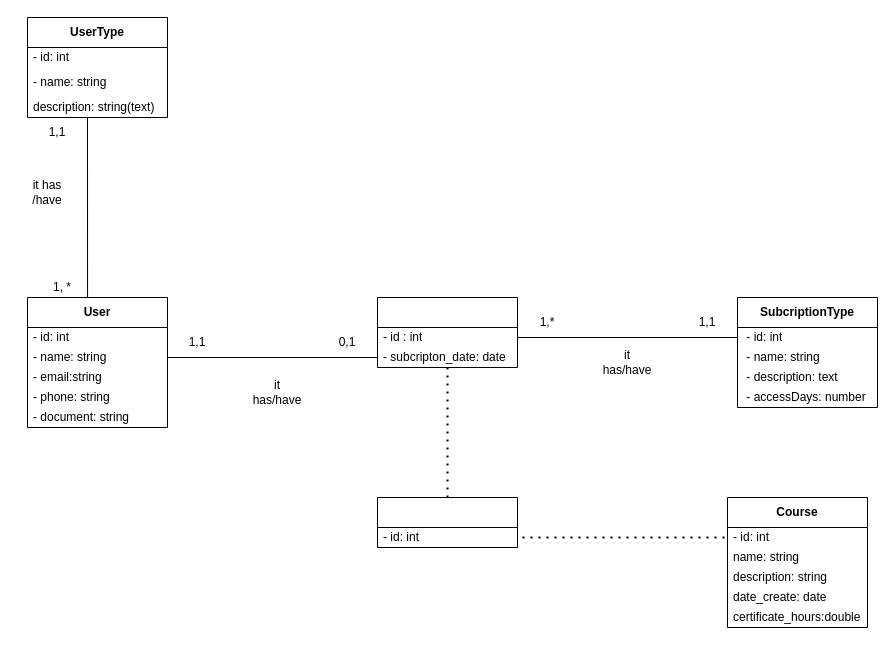
The diagram is 895 pixels wide and 645 high, and some of its shapes have lost their labels. Each missing label, with the box of its shape:
Subcription: (376, 296, 518, 368)
SubcriptionCourse: (376, 496, 518, 548)
